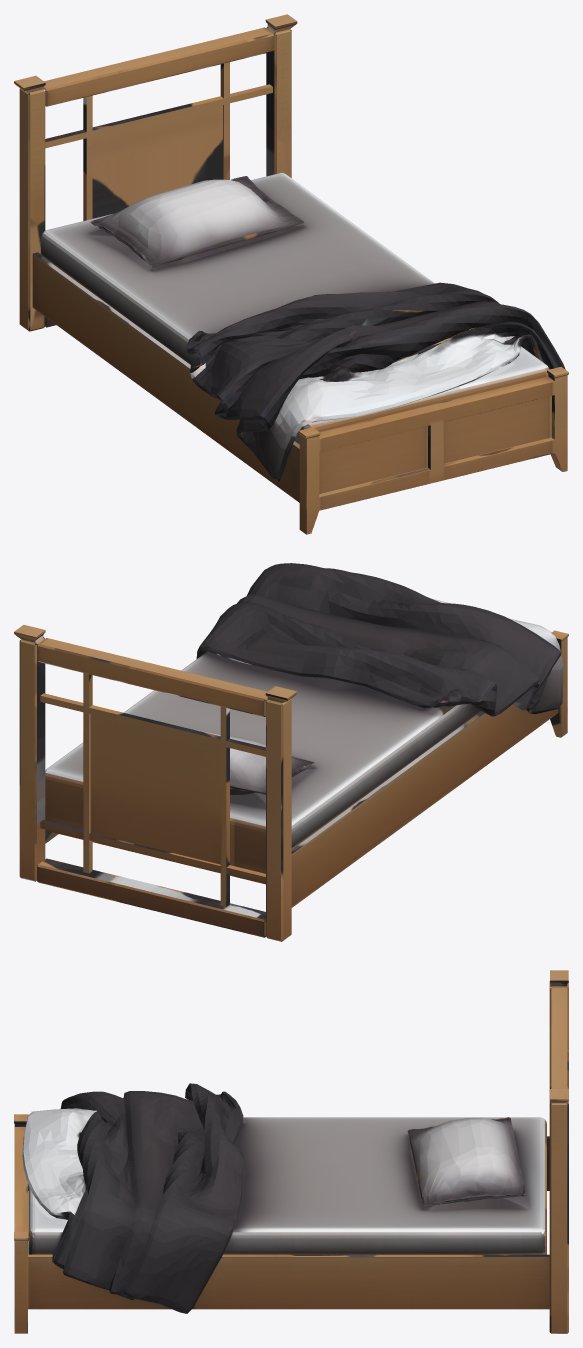
Rendered from edited_mesh.glb.
3 renders of one model, top to bottom at view 1: azimuth 30°, elevation 25°; view 2: azimuth 150°, elevation 25°; view 3: azimuth 270°, elevation 25°, orthographic. The views are drawn at different scales.
Parts seen in each view (by area): view 1: solid_001_wire; view 2: solid_001_wire; view 3: solid_001_wire.
Boxes of the visible parts, box(x1,y1,x2,y2) form: solid_001_wire: box(14, 14, 568, 534); solid_001_wire: box(14, 563, 568, 941); solid_001_wire: box(14, 970, 568, 1333).
Size of the model in its own units: 1.29 by 0.9447 by 2.
1 material, 1 textured.
